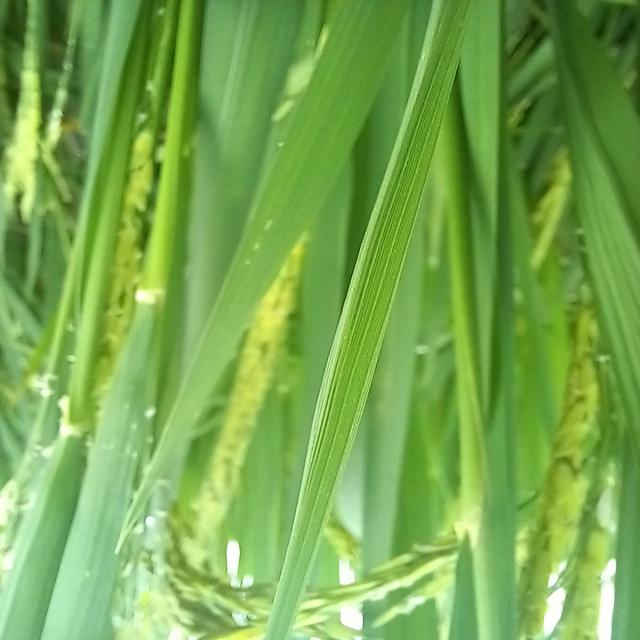HealthyLeaf: (295, 31, 473, 516)
